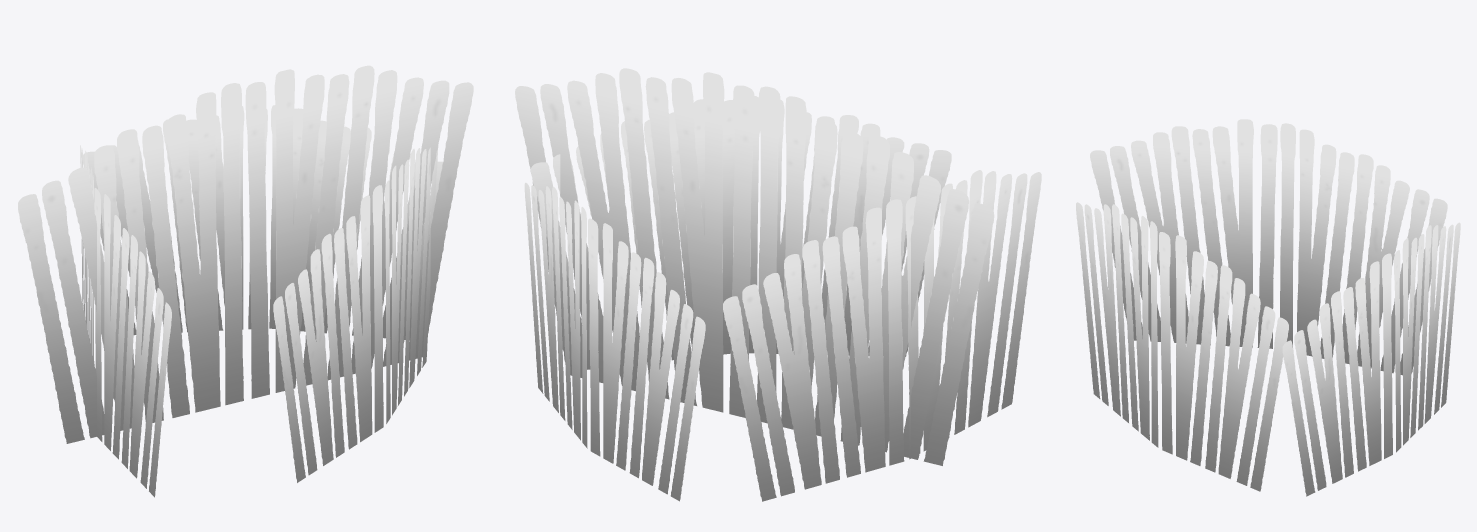
Rendered from SM_Nature_Grass_03.fbx.
3 renders of one model, left to right at view 1: azimuth 30°, elevation 25°; view 2: azimuth 150°, elevation 25°; view 3: azimuth 270°, elevation 25°, orthographic. The views are drawn at different scales.
Visible parts, largest first — view 1: SM_Nature_Grass_03; view 2: SM_Nature_Grass_03; view 3: SM_Nature_Grass_03.
Boxes of the visible parts, x1=… form: SM_Nature_Grass_03: x1=18, y1=65, x2=473, y2=497; SM_Nature_Grass_03: x1=515, y1=68, x2=1041, y2=501; SM_Nature_Grass_03: x1=1076, y1=119, x2=1460, y2=496.
Size of the model in its own units: 0.4363 by 0.2946 by 0.3476.
